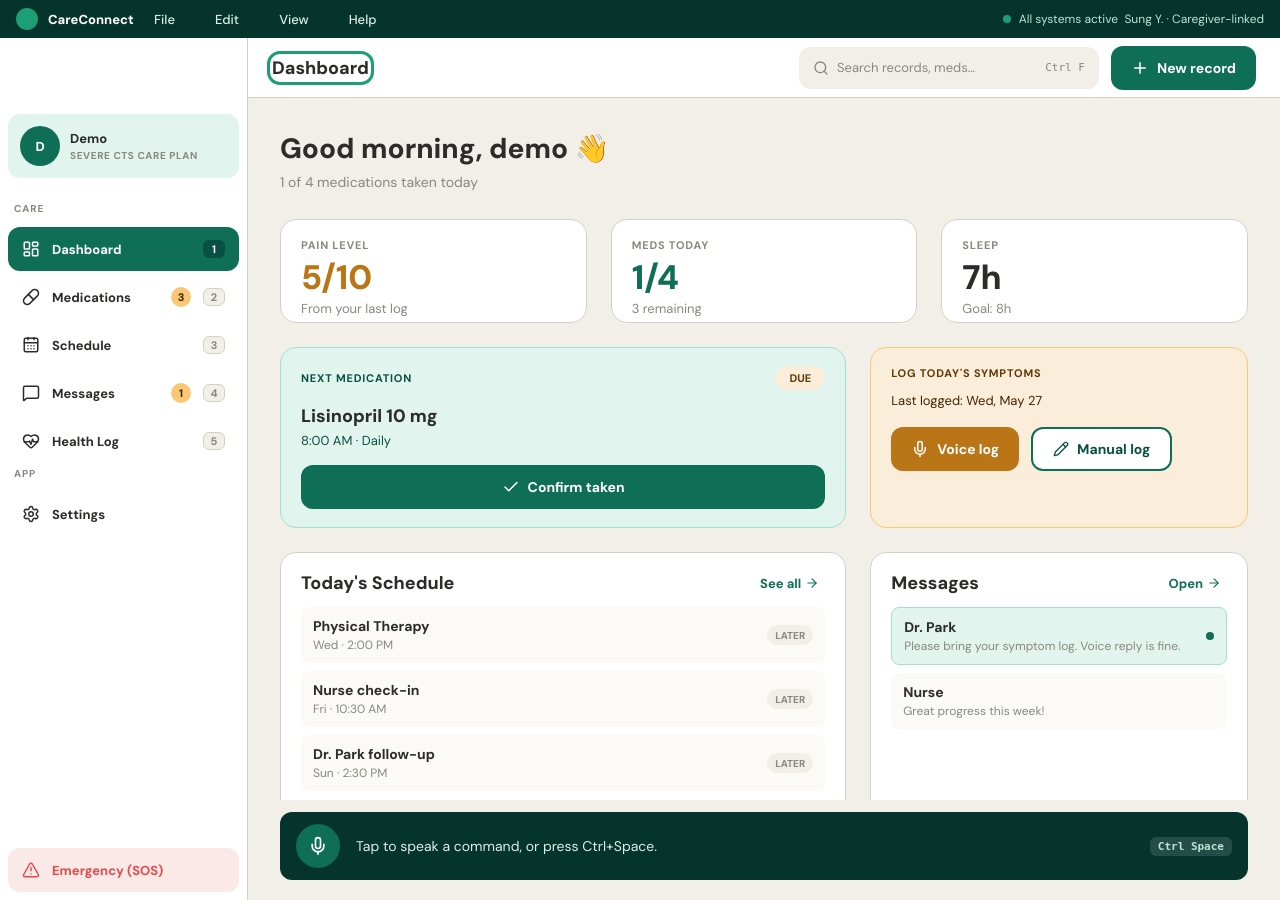
Test case: voice commands › navigates to health log with "voice log"
Expected: the heading "Dashboard" is shown, x1=272 y1=56 x2=369 y2=80
What coordinates should you click on to do the following:
click the button named "Start voice command"
I would click on:
 (318, 846)
Its box is x1=296 y1=824 x2=340 y2=868.
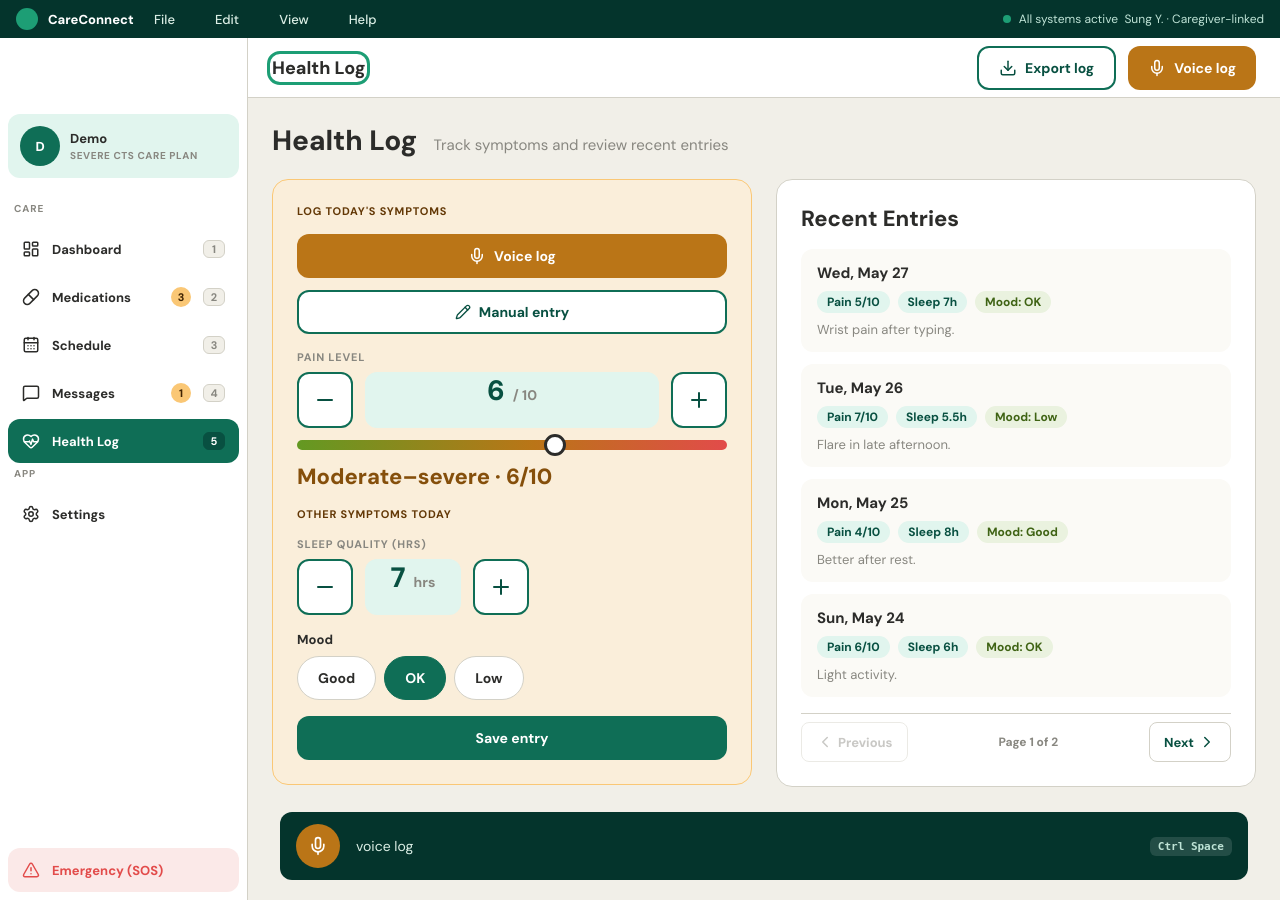
Result: the 1st heading "Health Log" is shown at x1=272 y1=56 x2=366 y2=80
